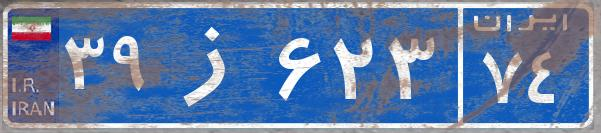2: (330, 28, 385, 110)
3: (385, 28, 445, 110), (57, 26, 110, 107)
4: (525, 38, 570, 115)
6: (273, 28, 330, 110)
7: (475, 38, 525, 113)
9: (110, 28, 158, 105)
ز: (158, 15, 273, 115)
